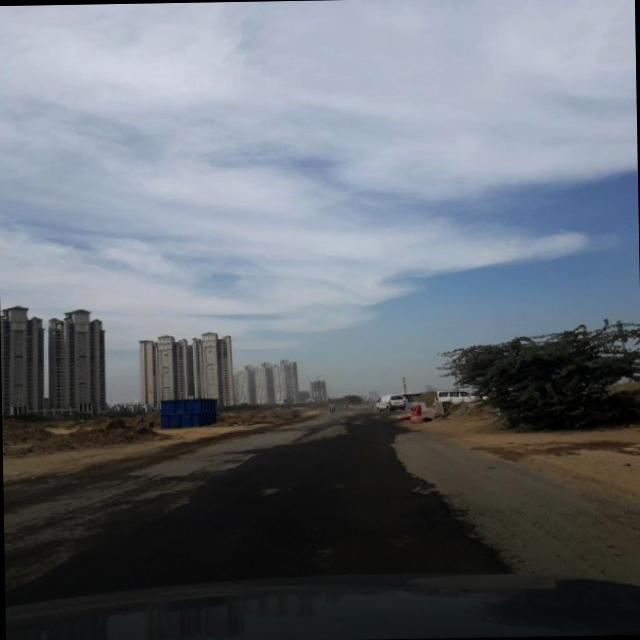pothole: (388, 436, 504, 566)
